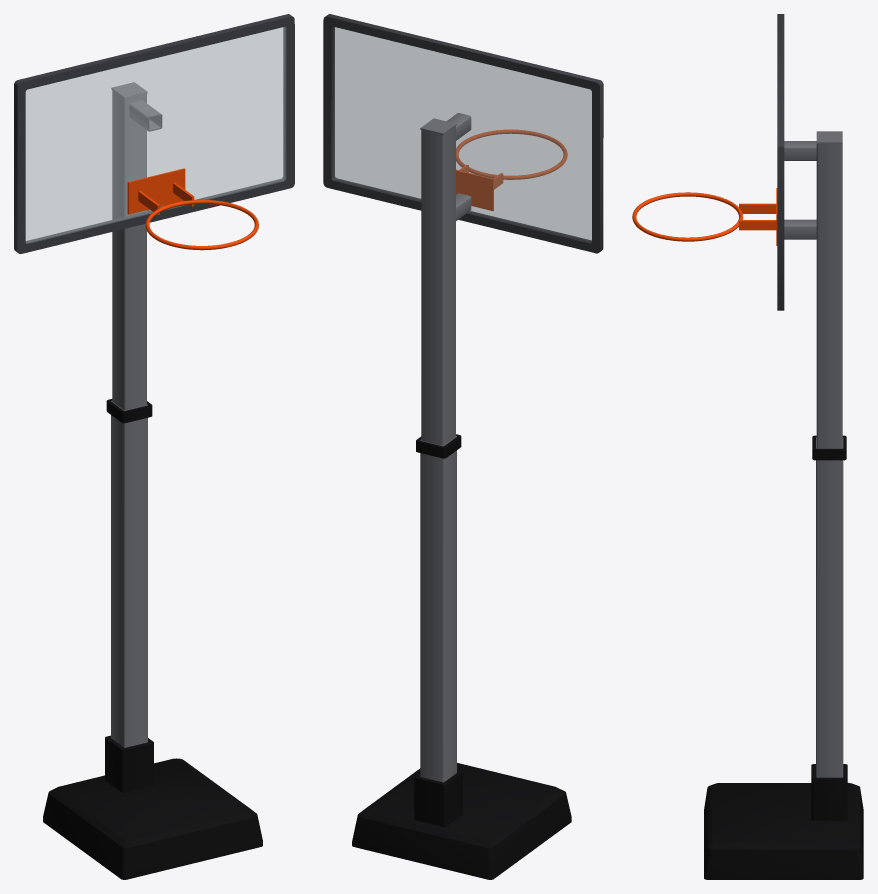
File: hoop.glb
The picture shows the model from 3 angles, left to right: view 1: azimuth 30°, elevation 25°; view 2: azimuth 150°, elevation 25°; view 3: azimuth 270°, elevation 25°; orthographic projection. The views are drawn at different scales.
Visible parts, largest first — view 1: backboard, base, outer_pole, inner_pole; view 2: backboard, base, outer_pole, inner_pole; view 3: base, inner_pole, outer_pole, backboard.
Part boxes in pixels (bbox=[...]): backboard: bbox=[14, 14, 294, 253]; base: bbox=[43, 735, 262, 879]; outer_pole: bbox=[106, 399, 152, 747]; inner_pole: bbox=[111, 82, 162, 410]; backboard: bbox=[323, 14, 603, 253]; base: bbox=[352, 763, 571, 879]; outer_pole: bbox=[416, 434, 461, 782]; inner_pole: bbox=[420, 113, 471, 445]; base: bbox=[704, 764, 863, 879]; inner_pole: bbox=[784, 131, 842, 448]; outer_pole: bbox=[812, 435, 846, 777]; backboard: bbox=[632, 14, 784, 310].
Bounding box in the file's own units: 1.37 × 3.71 × 1.01.
